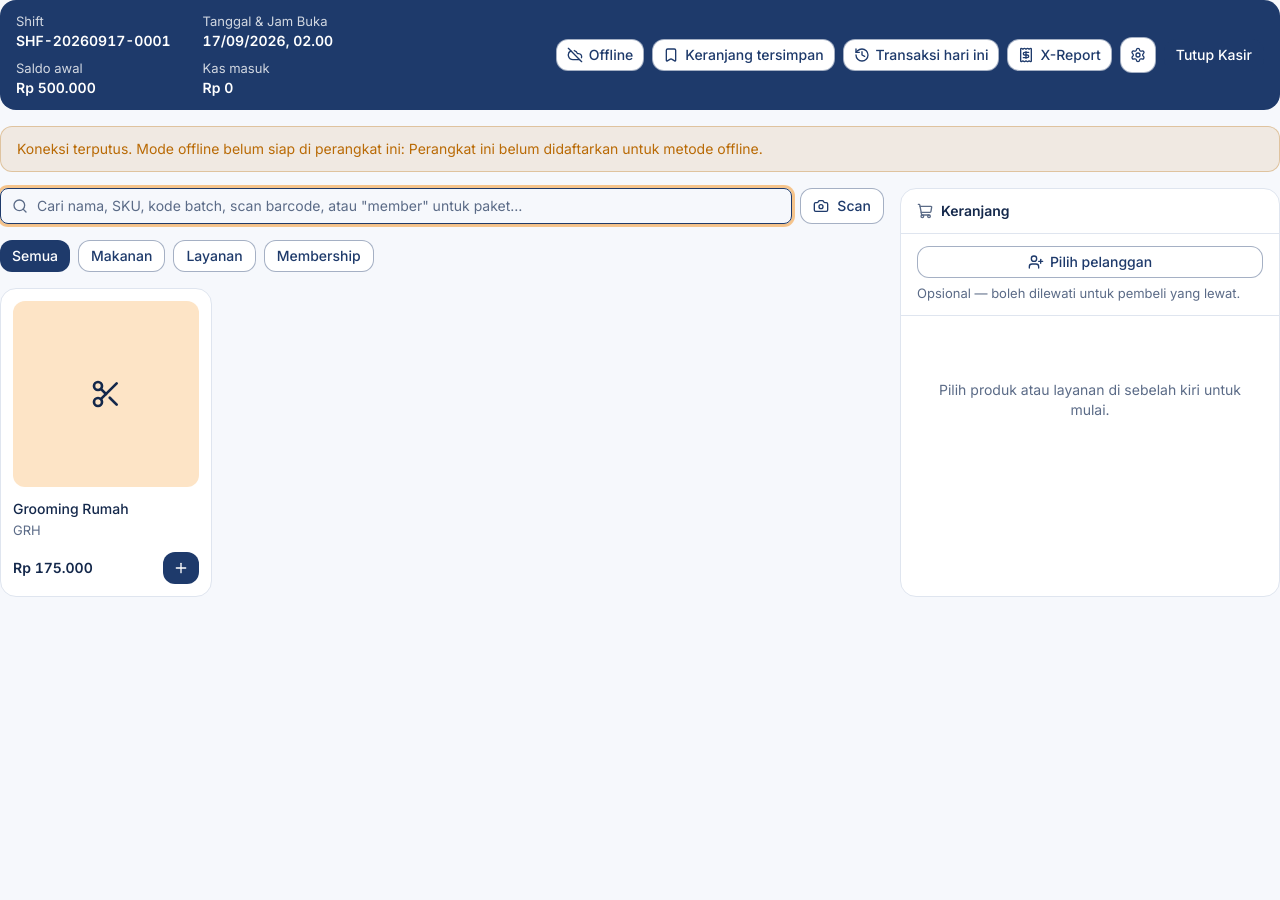
Test: PosServicePetDialog — priced beyond the animal › measures the zone from the till's branch to the customer's pin
What coordinates should you click on to do the following:
click the button "Pilih pelanggan"
I would click on:
 (1090, 262)
Its box is [917,246,1263,278].
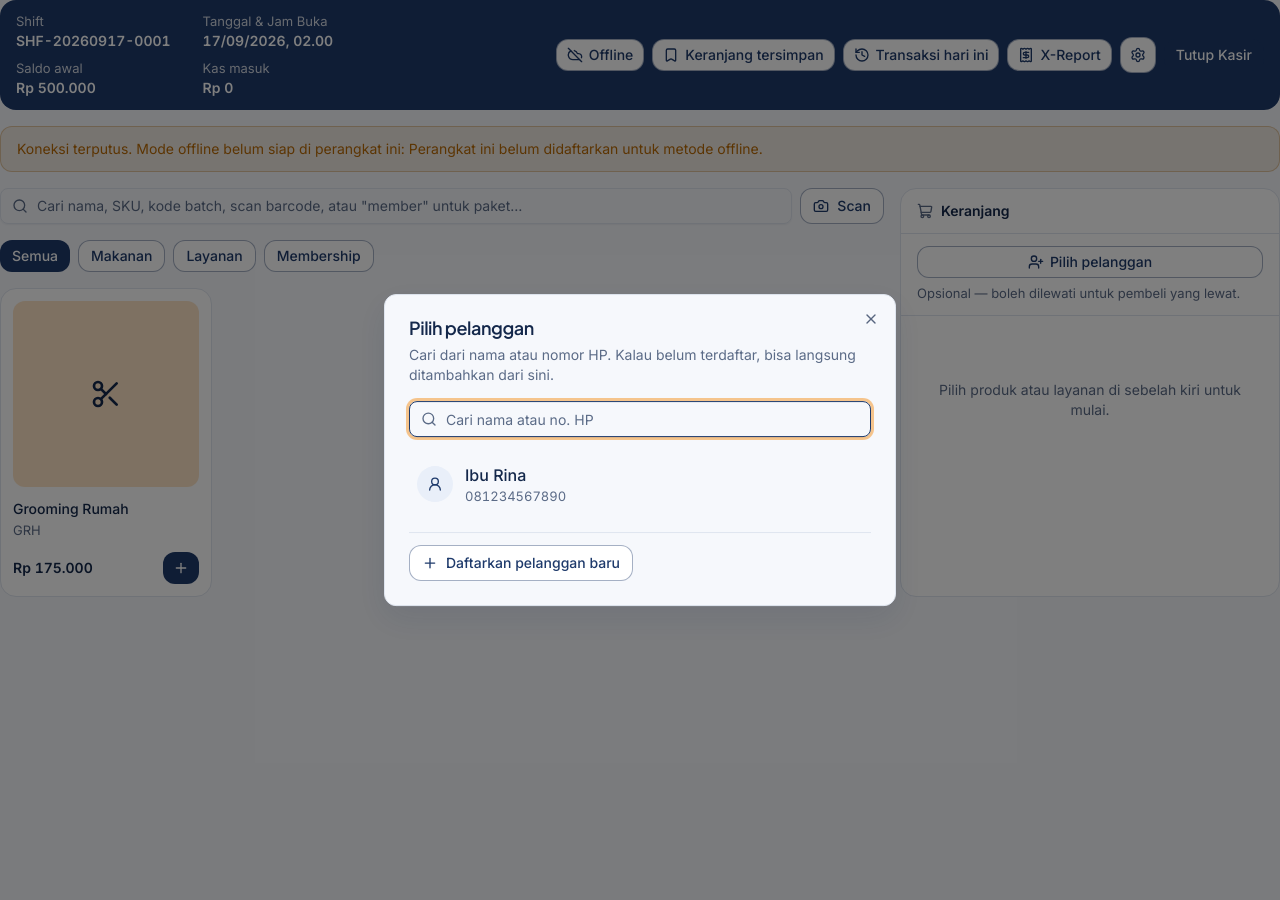
What coordinates should you click on to do the following:
click the text "Ibu Rina"
I would click on:
 (496, 475)
Its box is [465,465,526,485].
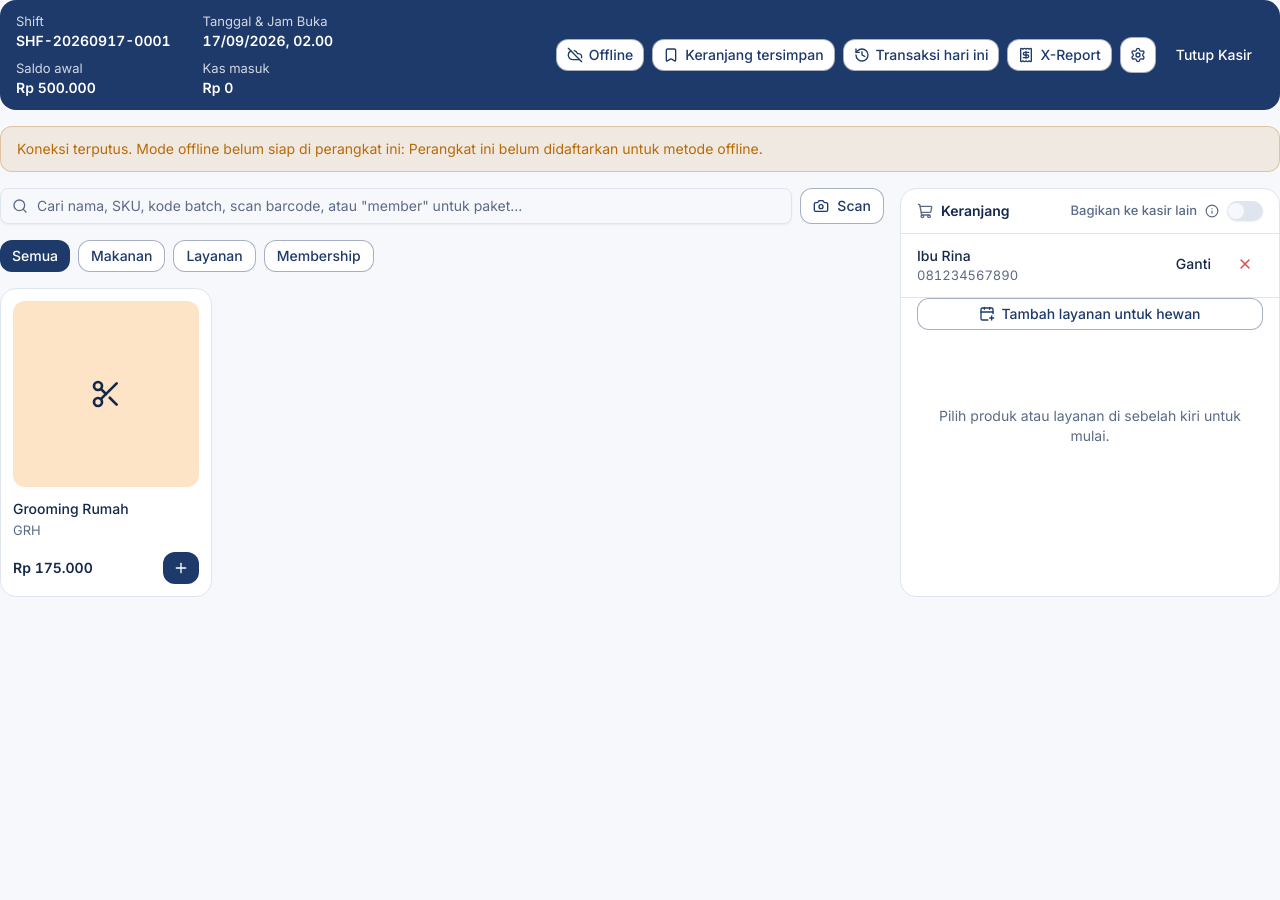
What coordinates should you click on to do the following:
click the button named "grooming rumah"
I would click on:
 (181, 568)
Its box is [163,552,199,584].
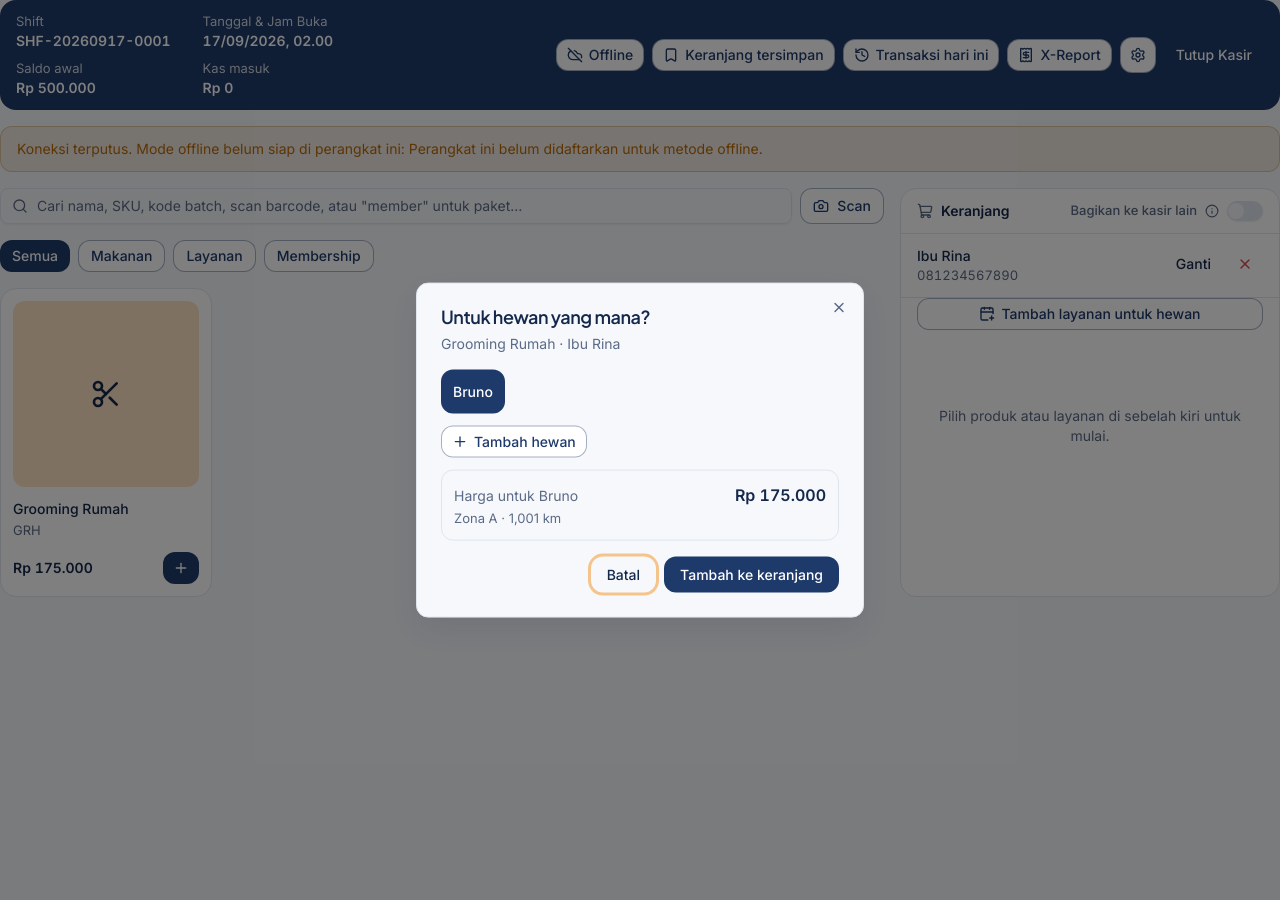
Check: the heading "Untuk hewan yang mana?" is shown, box [441,305,650,328]
Check: the text "Rp 175.000" is shown, box [735,483,826,507]
Check: the text "Zona A · 1,001 km" is shown, box [454,510,561,526]
